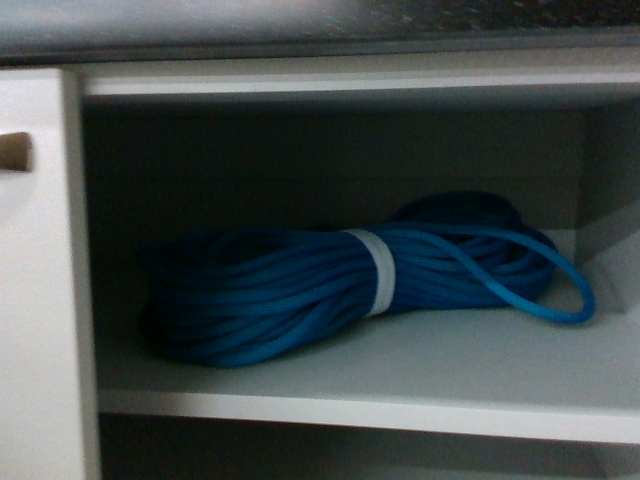rope: (193, 215, 600, 366)
